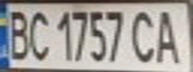1: (51, 7, 72, 62)
5: (87, 7, 109, 62)
7: (103, 6, 130, 62), (69, 7, 90, 61)
A: (151, 6, 187, 65)
B: (3, 6, 33, 61)
C: (127, 6, 160, 64), (24, 7, 51, 61)
